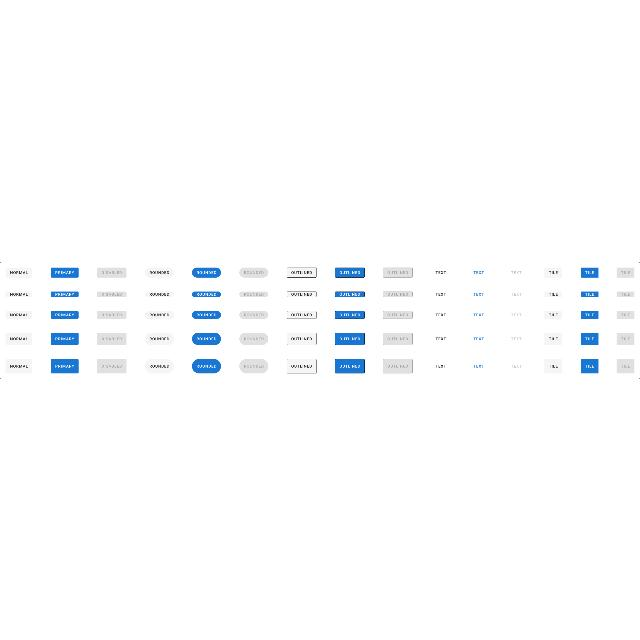QLabel: (290, 336, 312, 340), (290, 312, 312, 316), (290, 270, 312, 274), (196, 364, 217, 368), (387, 292, 408, 296), (387, 336, 408, 340), (9, 270, 29, 274), (55, 270, 75, 274), (54, 312, 74, 316), (101, 270, 121, 274), (101, 312, 121, 316), (149, 270, 169, 274), (149, 291, 169, 295), (149, 312, 169, 316), (196, 270, 216, 274), (197, 312, 217, 316), (244, 270, 264, 274), (244, 312, 264, 316), (340, 270, 360, 274), (340, 312, 360, 316), (388, 270, 408, 274), (388, 312, 408, 316), (388, 363, 408, 367), (10, 312, 28, 316), (102, 336, 122, 339), (149, 336, 169, 339), (196, 336, 216, 339), (244, 336, 264, 339), (340, 336, 360, 339), (10, 336, 28, 339), (56, 336, 74, 339), (434, 312, 446, 316), (472, 291, 484, 295), (472, 312, 484, 316), (290, 364, 312, 366), (290, 292, 312, 294), (511, 270, 522, 274), (511, 291, 522, 295), (511, 312, 522, 316), (8, 292, 28, 294), (102, 292, 122, 294), (102, 364, 122, 366), (149, 364, 169, 366), (197, 292, 217, 294), (244, 292, 264, 294), (244, 364, 264, 366), (340, 292, 360, 294), (340, 364, 360, 366), (436, 270, 446, 274), (436, 291, 446, 295), (436, 336, 446, 340), (474, 270, 484, 274), (474, 336, 484, 340), (548, 363, 558, 367), (548, 312, 558, 316), (548, 291, 558, 295), (548, 270, 558, 274), (584, 270, 594, 274), (585, 312, 595, 316), (585, 363, 595, 367), (620, 336, 630, 340), (620, 312, 630, 316), (620, 270, 630, 274), (10, 364, 28, 366), (56, 292, 74, 294), (56, 364, 74, 366), (511, 336, 522, 339), (548, 336, 558, 339), (586, 336, 594, 339), (436, 364, 446, 366), (474, 364, 484, 366), (511, 364, 521, 366), (584, 292, 594, 294), (622, 364, 630, 366), (622, 292, 630, 294)
VBtn: (240, 357, 268, 373), (382, 358, 413, 372), (335, 358, 365, 372), (97, 358, 127, 372), (287, 358, 317, 372), (144, 358, 174, 372), (51, 358, 79, 372), (192, 358, 220, 372), (7, 358, 33, 372), (97, 332, 127, 344), (383, 332, 413, 344), (287, 332, 317, 344), (335, 332, 365, 344), (287, 266, 317, 278), (240, 266, 268, 278), (51, 332, 79, 344), (240, 332, 268, 344), (192, 332, 220, 344), (145, 332, 173, 344), (5, 266, 32, 278), (7, 331, 33, 343), (97, 267, 127, 277), (144, 267, 174, 277), (335, 267, 365, 277), (383, 267, 413, 277), (544, 357, 562, 373), (51, 267, 79, 277), (192, 267, 220, 277), (616, 358, 634, 372), (581, 358, 599, 372), (287, 310, 317, 318), (144, 310, 174, 318), (335, 310, 365, 318), (97, 310, 127, 318), (383, 310, 413, 318), (50, 310, 78, 318), (192, 310, 220, 318), (240, 310, 268, 318), (5, 310, 32, 318), (544, 266, 562, 278), (581, 332, 599, 344), (616, 331, 634, 343), (544, 331, 562, 343), (506, 288, 526, 298), (286, 290, 318, 296), (617, 266, 635, 276), (383, 290, 413, 296), (335, 290, 365, 296), (433, 360, 451, 370), (470, 360, 488, 370), (432, 333, 451, 342), (98, 290, 126, 296), (145, 290, 173, 296), (240, 290, 268, 296), (51, 290, 79, 296), (192, 290, 220, 296), (470, 310, 490, 318), (509, 360, 525, 370), (582, 267, 598, 277), (7, 290, 33, 296), (469, 334, 488, 342), (470, 268, 488, 276), (616, 310, 634, 318), (544, 310, 562, 318), (508, 310, 526, 318), (581, 310, 599, 318), (432, 310, 450, 318), (470, 289, 488, 297), (508, 334, 524, 342), (508, 268, 524, 276), (433, 289, 449, 297), (433, 268, 449, 276), (544, 290, 562, 296), (581, 290, 599, 296), (616, 290, 634, 296)
